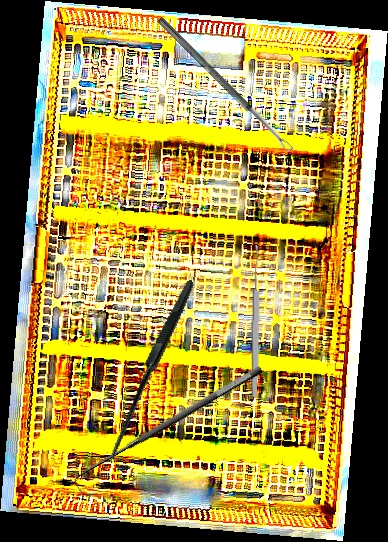Hook Surgical: (57, 279, 254, 474), (68, 362, 272, 497)
Surgical Spoon: (156, 16, 294, 154), (250, 245, 262, 398)
